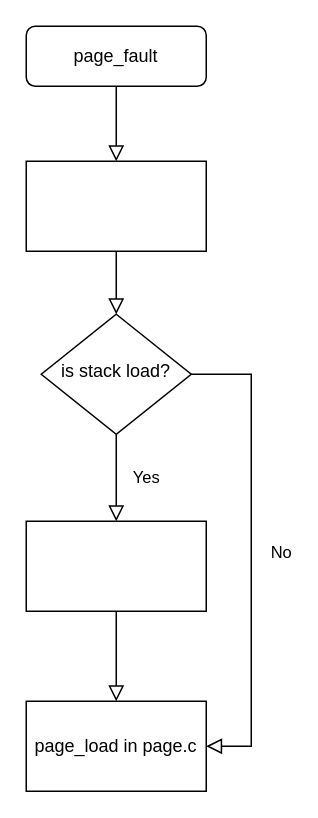
Image size: 318x818. Some labels were removed from this diagram. The shapes that lost their labels are listed below. From the top down, each one's centre as x and y in pixels, then its label:
(x=115, y=205): get current clock frame
(x=115, y=565): page set with zero
